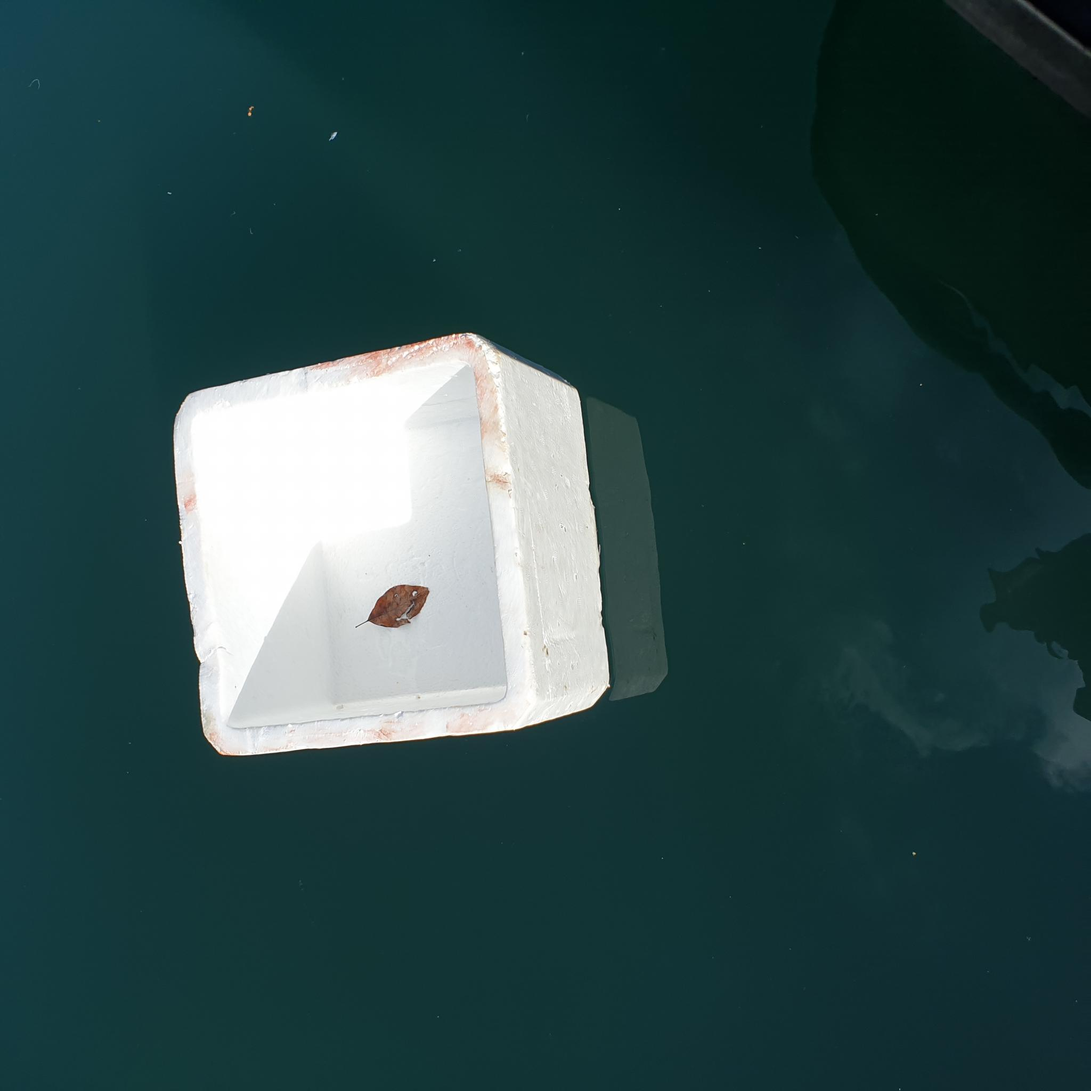sampah_terapung: (174, 332, 611, 756)
